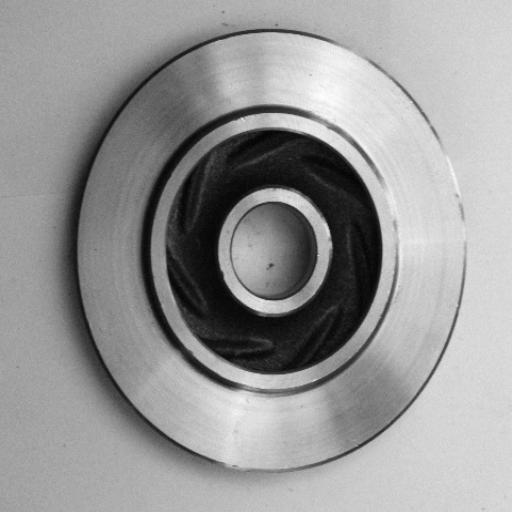scratch: (428, 136, 483, 255), (373, 169, 408, 244)
unpolished_casting: (70, 24, 468, 474)
